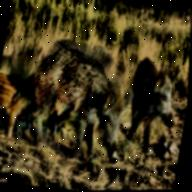boar: (5, 21, 162, 180), (84, 26, 191, 155)
